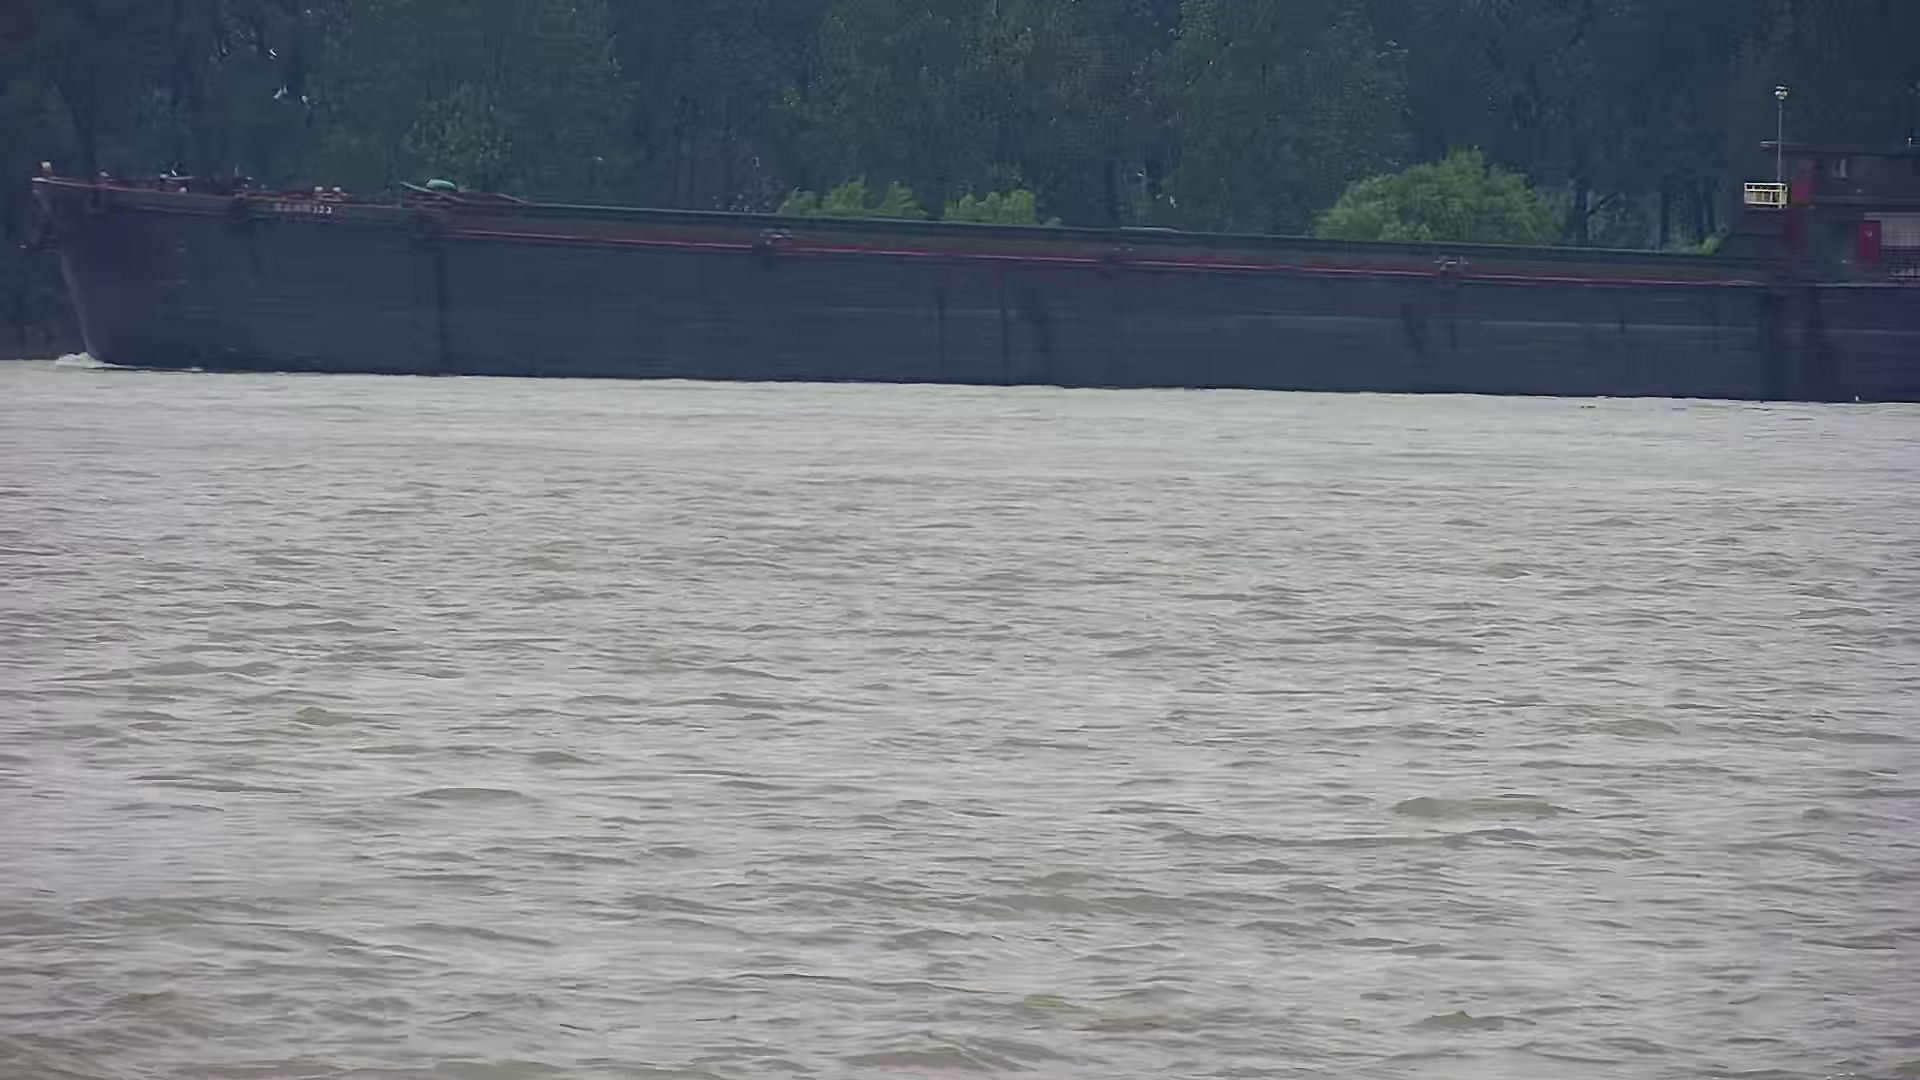ship: (41, 70, 1920, 407)
